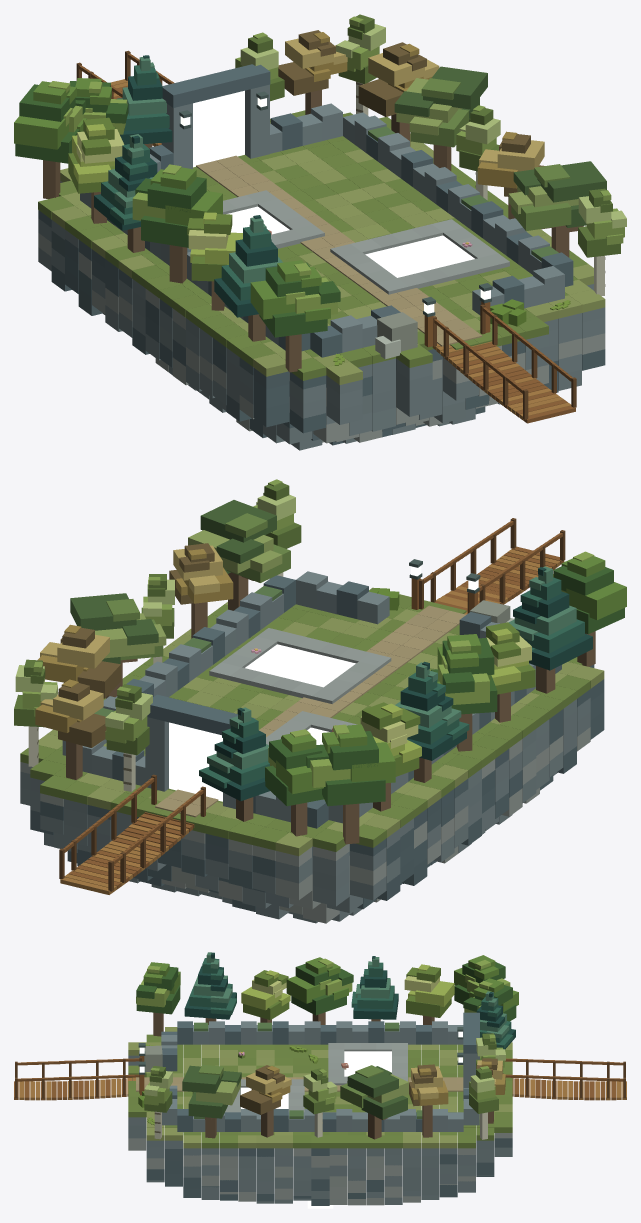
The model's file is room_pools_purified.glb.
3 views of the same model, one above another, from view 1: azimuth 30°, elevation 25°; view 2: azimuth 150°, elevation 25°; view 3: azimuth 270°, elevation 25° (orthographic). The views are drawn at different scales.
Visible parts, largest first — view 1: room_pools_blocks, tree0_(0, 0).001, tree0_(0, 0).002, tree3_(0, 0).002, tree3_(0, 0).001, tree0_(0, 0).003, tree2_(0, 0).001, tree5_(0, 0).002, tree2_(0, 0).002, tree5_(0, 0).003, tree4_(0, 0).002, tree2_(0, 0).003 (+9 smaller); view 2: room_pools_blocks, tree0_(0, 0).003, tree3_(0, 0).001, tree2_(0, 0).001, tree2_(0, 0).003, tree3_(0, 0).002, tree0_(0, 0).002, tree2_(0, 0).002, tree0_(0, 0).001, tree5_(0, 0).003, tree0_(0, 0).004, tree5_(0, 0).002 (+8 smaller); view 3: room_pools_blocks, tree3_(0, 0).002, tree0_(0, 0).002, tree3_(0, 0).001, tree2_(0, 0).001, tree0_(0, 0).001, tree2_(0, 0).002, tree4_(0, 0).002, tree5_(0, 0).001, tree4_(0, 0).001, tree5_(0, 0).002, tree0_(0, 0).003 (+8 smaller).
Boxes of the visible parts, bbox=[...] form: room_pools_blocks: bbox=[38, 50, 605, 450]; tree0_(0, 0).001: bbox=[250, 260, 340, 372]; tree0_(0, 0).002: bbox=[132, 164, 222, 283]; tree3_(0, 0).002: bbox=[394, 66, 487, 170]; tree3_(0, 0).001: bbox=[508, 161, 606, 257]; tree0_(0, 0).003: bbox=[14, 81, 86, 198]; tree2_(0, 0).001: bbox=[214, 215, 282, 341]; tree5_(0, 0).002: bbox=[358, 42, 439, 146]; tree2_(0, 0).002: bbox=[94, 134, 157, 252]; tree5_(0, 0).003: bbox=[278, 30, 347, 114]; tree4_(0, 0).002: bbox=[68, 117, 124, 223]; tree2_(0, 0).003: bbox=[117, 55, 172, 148]; room_pools_blocks: bbox=[20, 518, 604, 923]; tree0_(0, 0).003: bbox=[306, 724, 395, 844]; tree3_(0, 0).001: bbox=[188, 500, 290, 610]; tree2_(0, 0).001: bbox=[509, 566, 592, 693]; tree2_(0, 0).003: bbox=[199, 707, 269, 821]; tree3_(0, 0).002: bbox=[70, 593, 166, 698]; tree0_(0, 0).002: bbox=[431, 634, 497, 751]; tree2_(0, 0).002: bbox=[395, 661, 469, 782]; tree0_(0, 0).001: bbox=[553, 551, 626, 666]; tree5_(0, 0).003: bbox=[35, 679, 106, 779]; tree0_(0, 0).004: bbox=[265, 729, 323, 836]; tree5_(0, 0).002: bbox=[37, 624, 120, 698]; room_pools_blocks: bbox=[14, 1012, 626, 1208]; tree3_(0, 0).002: bbox=[340, 1065, 408, 1139]; tree0_(0, 0).002: bbox=[286, 957, 353, 1024]; tree3_(0, 0).001: bbox=[182, 1064, 241, 1138]; tree2_(0, 0).001: bbox=[184, 952, 236, 1024]; tree0_(0, 0).001: bbox=[136, 962, 180, 1036]; tree2_(0, 0).002: bbox=[351, 956, 398, 1021]; tree4_(0, 0).002: bbox=[404, 964, 454, 1025]; tree5_(0, 0).001: bbox=[240, 1065, 291, 1137]; tree4_(0, 0).001: bbox=[241, 970, 290, 1022]; tree5_(0, 0).002: bbox=[409, 1064, 448, 1137]; tree0_(0, 0).003: bbox=[454, 955, 510, 1004].
Bounding box in the file's own units: 19.66 × 13.88 × 38.5.
